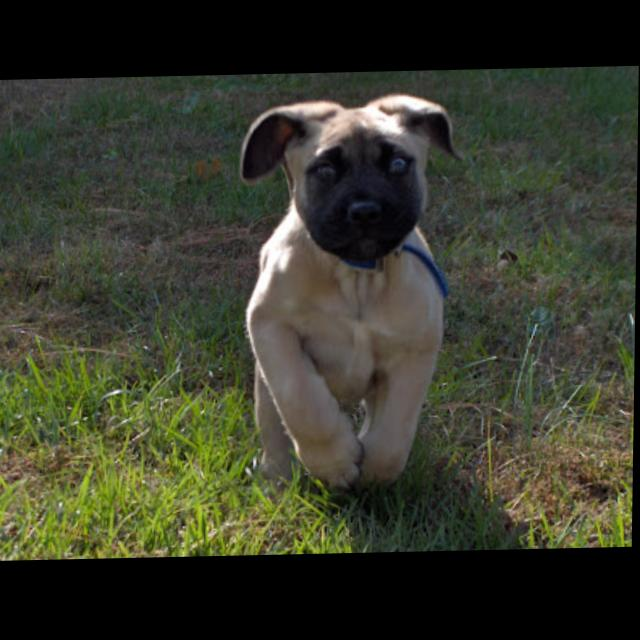mastiff: (238, 93, 465, 502)
